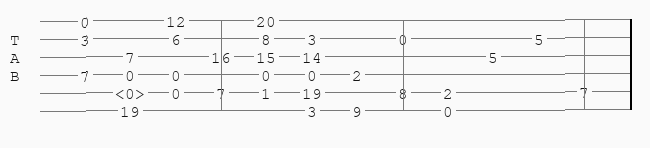0: (80, 13, 94, 27), (125, 67, 139, 81), (171, 85, 185, 99), (171, 67, 185, 81), (261, 67, 275, 81), (307, 67, 321, 81), (398, 31, 412, 45), (443, 103, 457, 117)
1: (261, 85, 275, 99)
12: (166, 13, 190, 27)
14: (302, 49, 326, 63)
15: (256, 49, 280, 63)
16: (211, 49, 235, 63)
19: (120, 103, 144, 117), (302, 85, 326, 99)
2: (352, 67, 366, 81), (443, 85, 457, 99)
20: (256, 13, 280, 27)
3: (80, 31, 94, 45), (307, 31, 321, 45), (307, 103, 321, 117)
5: (488, 49, 502, 63), (534, 31, 548, 45)
6: (171, 31, 185, 45)
7: (80, 67, 94, 81), (125, 49, 139, 63), (216, 85, 230, 99), (579, 85, 593, 99)
8: (261, 31, 275, 45), (398, 85, 412, 99)
9: (352, 103, 366, 117)
harmonic: (115, 85, 149, 100)
